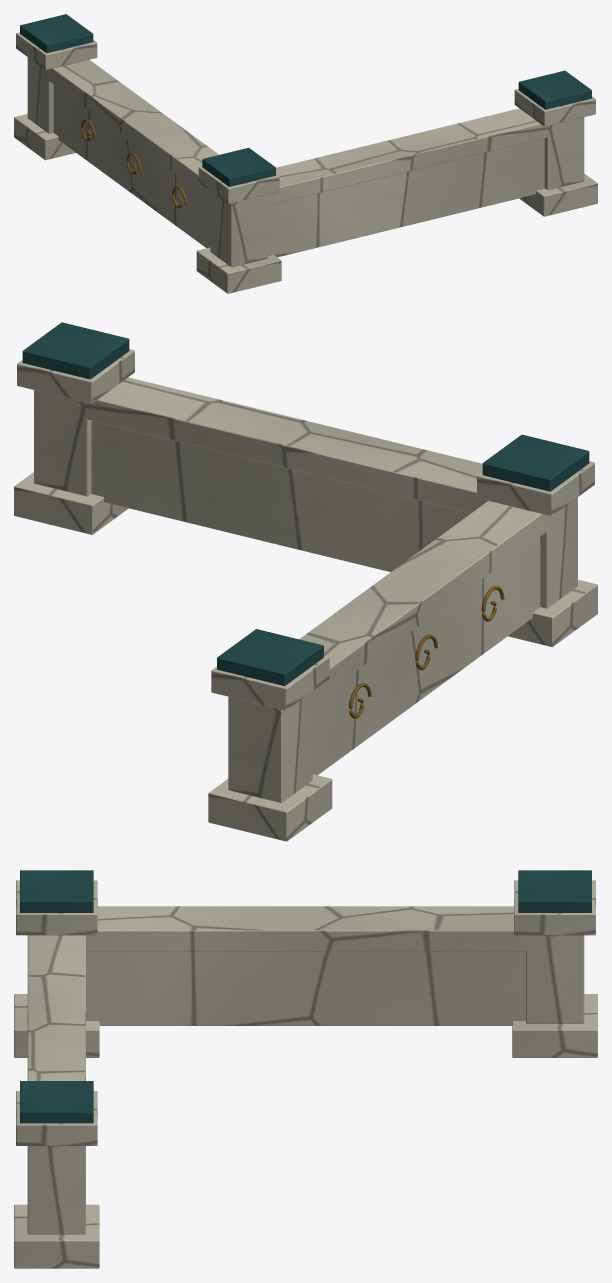
File: t06_rail_corner.fbx
3 renders of one model, top to bottom at view 1: azimuth 30°, elevation 25°; view 2: azimuth 150°, elevation 25°; view 3: azimuth 270°, elevation 25°, orthographic. The views are drawn at different scales.
Visible parts, largest first — view 1: t06_rail_corner.004; view 2: t06_rail_corner.004; view 3: t06_rail_corner.004.
Part boxes in pixels (x1,y1,x2,y2): t06_rail_corner.004: [14, 14, 597, 293]; t06_rail_corner.004: [14, 322, 597, 841]; t06_rail_corner.004: [14, 870, 597, 1268].
Bounding box in the file's own units: 30000 × 30000 × 8750.
